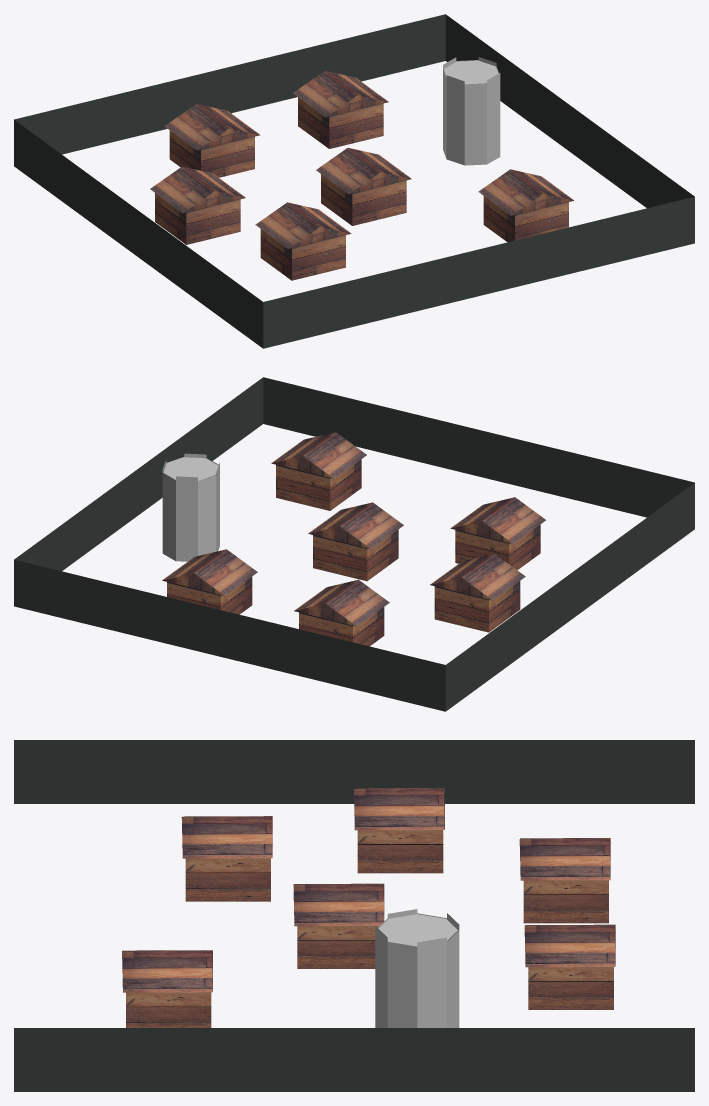
The model's file is city.fbx.
3 renders of one model, top to bottom at view 1: azimuth 30°, elevation 25°; view 2: azimuth 150°, elevation 25°; view 3: azimuth 270°, elevation 25°, orthographic. The views are drawn at different scales.
Visible parts, largest first — view 1: Cube, Cylinder, Cube.002, Cube.004, Cube.003, Cube.005, Cube.001, Cube.007; view 2: Cube, Cylinder, Cube.004, Cube.003, Cube.007, Cube.005, Cube.001, Cube.002; view 3: Cube, Cylinder, Cube.004, Cube.001, Cube.005, Cube.002, Cube.003, Cube.007.
Boxes of the visible parts, x1=… form: Cube: x1=14, y1=14, x2=694, y2=348; Cylinder: x1=443, y1=57, x2=500, y2=165; Cube.002: x1=293, y1=71, x2=388, y2=148; Cube.004: x1=150, y1=166, x2=245, y2=244; Cube.003: x1=316, y1=148, x2=411, y2=225; Cube.005: x1=255, y1=202, x2=351, y2=280; Cube.001: x1=164, y1=104, x2=260, y2=177; Cube.007: x1=478, y1=169, x2=573, y2=242; Cube: x1=14, y1=377, x2=694, y2=711; Cylinder: x1=162, y1=453, x2=219, y2=561; Cube.004: x1=430, y1=553, x2=525, y2=632; Cube.003: x1=308, y1=502, x2=403, y2=581; Cube.007: x1=271, y1=432, x2=366, y2=510; Cube.005: x1=450, y1=497, x2=545, y2=570; Cube.001: x1=294, y1=579, x2=389, y2=646; Cube.002: x1=162, y1=549, x2=257, y2=614; Cube: x1=14, y1=740, x2=694, y2=1091; Cylinder: x1=375, y1=909, x2=459, y2=1027; Cube.004: x1=354, y1=788, x2=444, y2=873; Cube.001: x1=519, y1=838, x2=610, y2=923; Cube.005: x1=181, y1=816, x2=272, y2=901; Cube.002: x1=524, y1=924, x2=615, y2=1009; Cube.003: x1=293, y1=883, x2=384, y2=968; Cube.007: x1=122, y1=950, x2=212, y2=1027.
Bounding box in the file's own units: 7.97 × 1.51 × 7.97.
